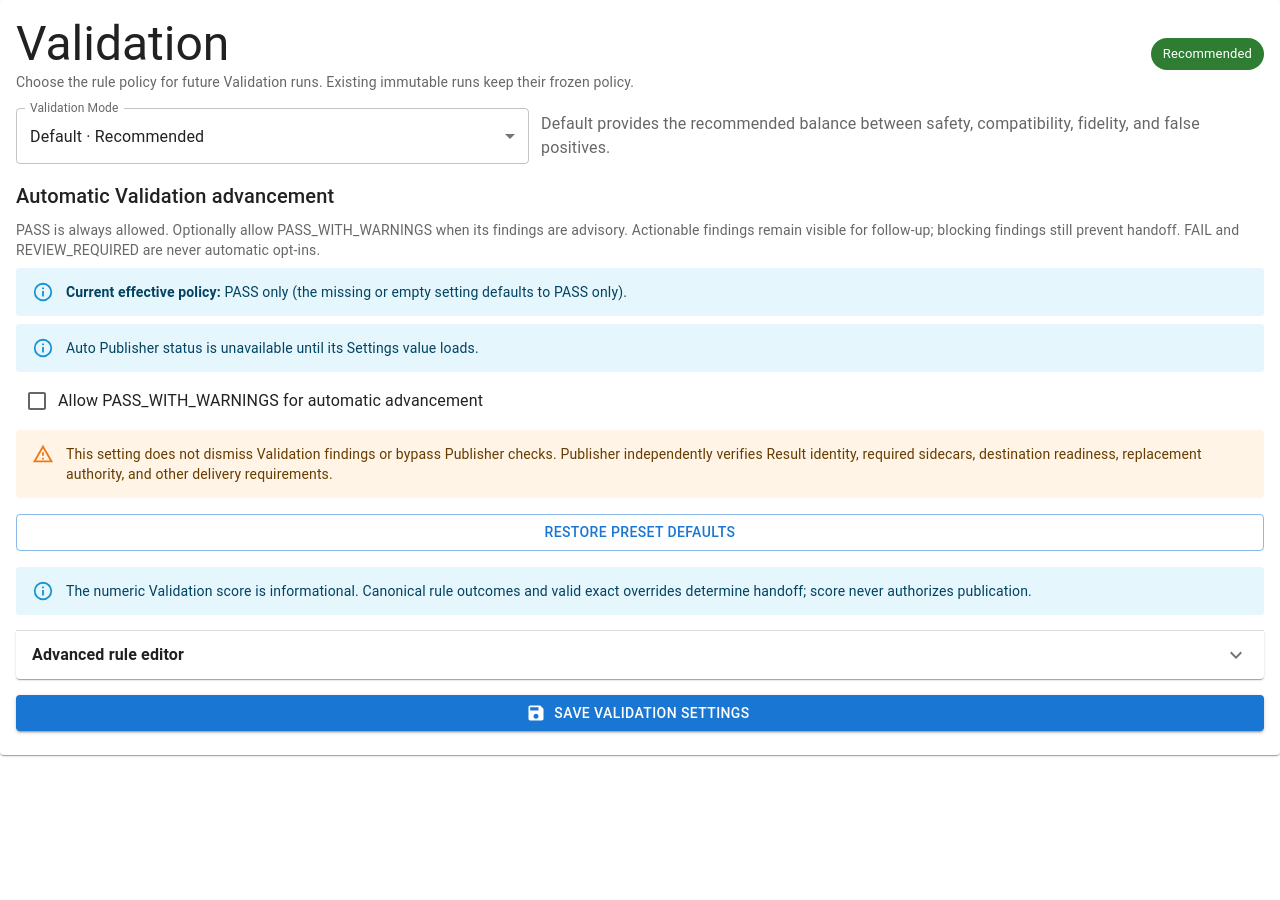
ValidationPolicySettingsCard › shows Pixel semantics for the canonical pixelFormat policy field
Click the button "Advanced rule editor" at (108,654), box [16,631,1264,679]
(page scrolled)
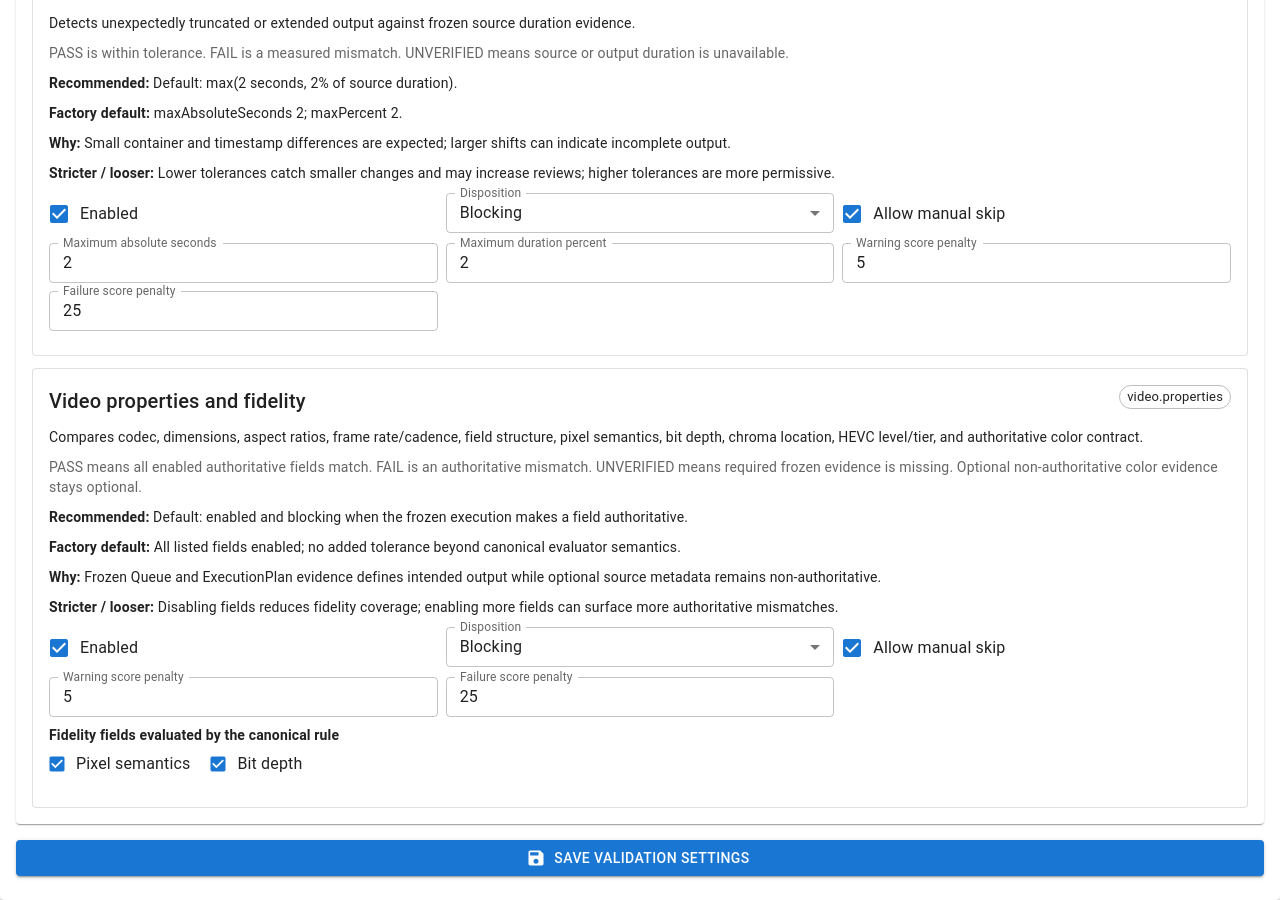
Expected: the text "Pixel semantics" is shown, [76,752,190,776]
Expected: the text "Bit depth" is shown, [237,752,302,776]
